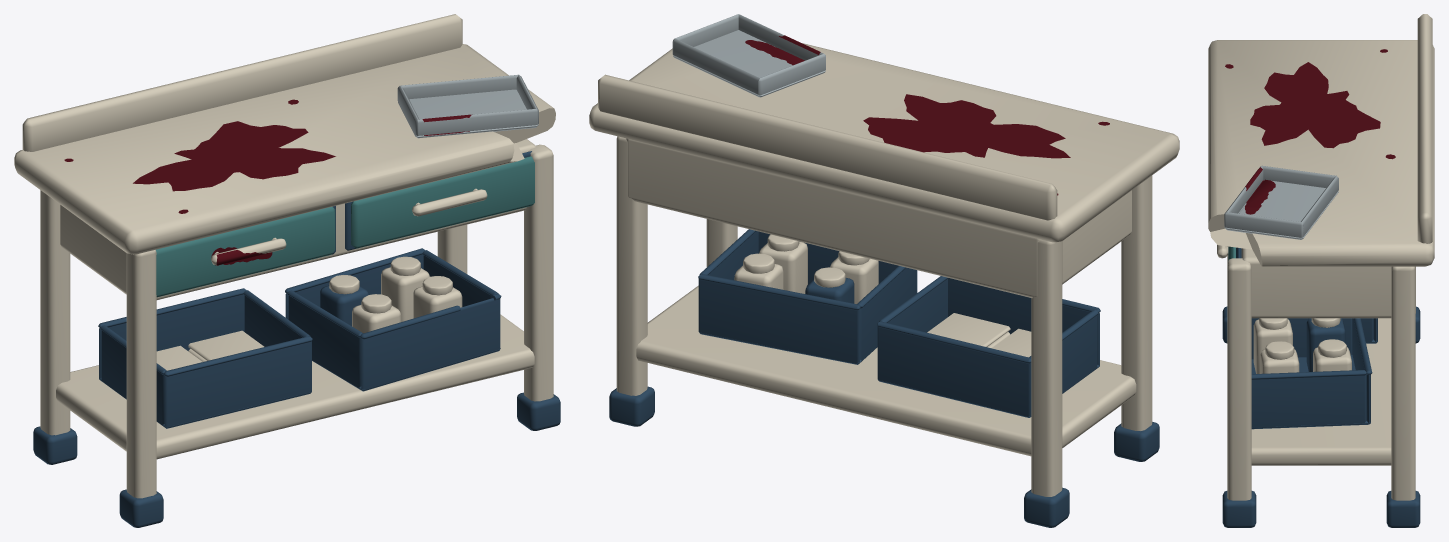
The model's file is prep_counter.glb.
3 renders of one model, left to right at view 1: azimuth 30°, elevation 25°; view 2: azimuth 150°, elevation 25°; view 3: azimuth 270°, elevation 25°, orthographic. The views are drawn at different scales.
Visible parts, largest first — view 1: OB_SpecialtyPrepCounter_01_Static; view 2: OB_SpecialtyPrepCounter_01_Static; view 3: OB_SpecialtyPrepCounter_01_Static.
Part boxes in pixels (x1,y1,x2,y2): OB_SpecialtyPrepCounter_01_Static: (14,14,560,527); OB_SpecialtyPrepCounter_01_Static: (589,14,1179,527); OB_SpecialtyPrepCounter_01_Static: (1208,14,1434,527).
Size of the model in its own units: 1.51 by 1.06 by 0.687.
